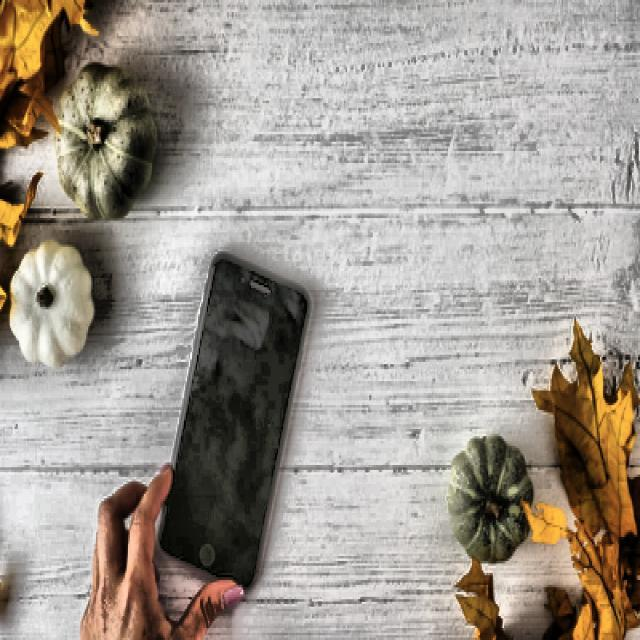Phone: (157, 250, 310, 590)
